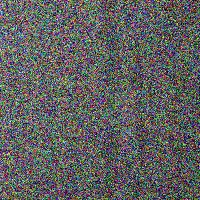inclusion: (95, 1, 148, 198), (61, 94, 83, 168)
